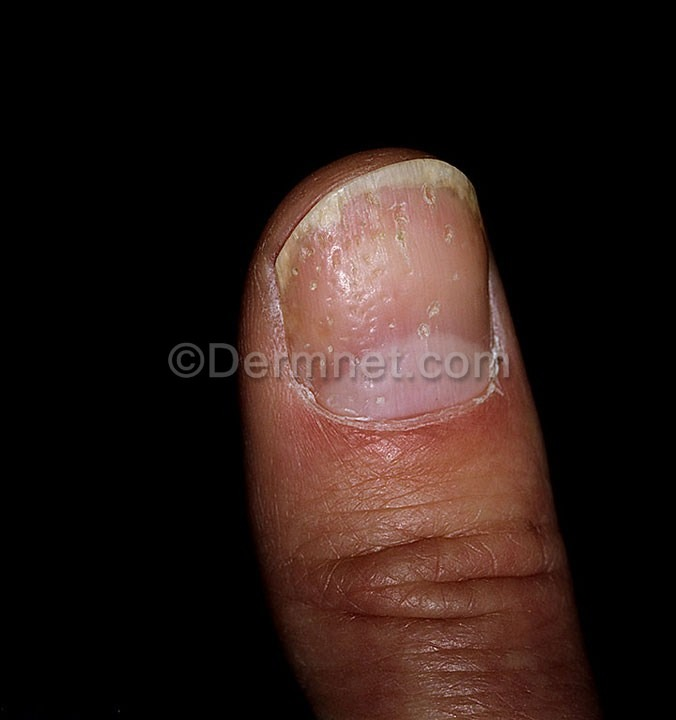Psoriasis: (282, 181, 480, 338)
